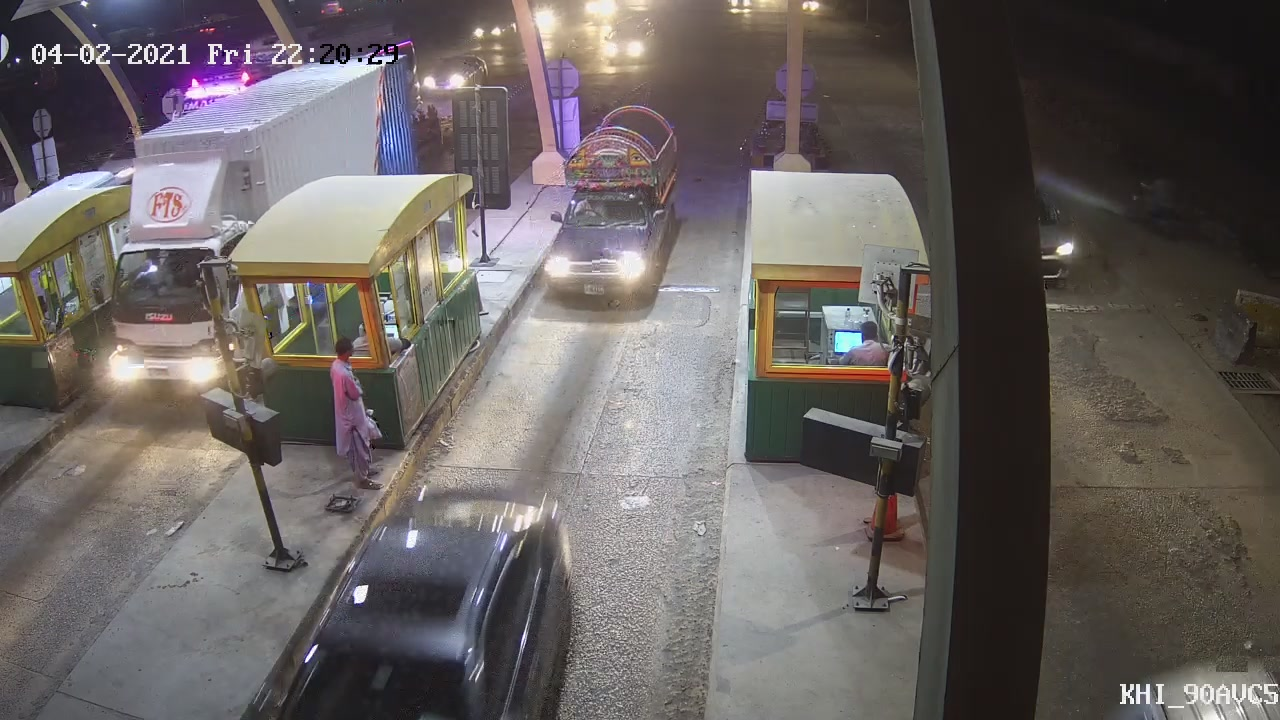F1: (538, 112, 690, 306)
